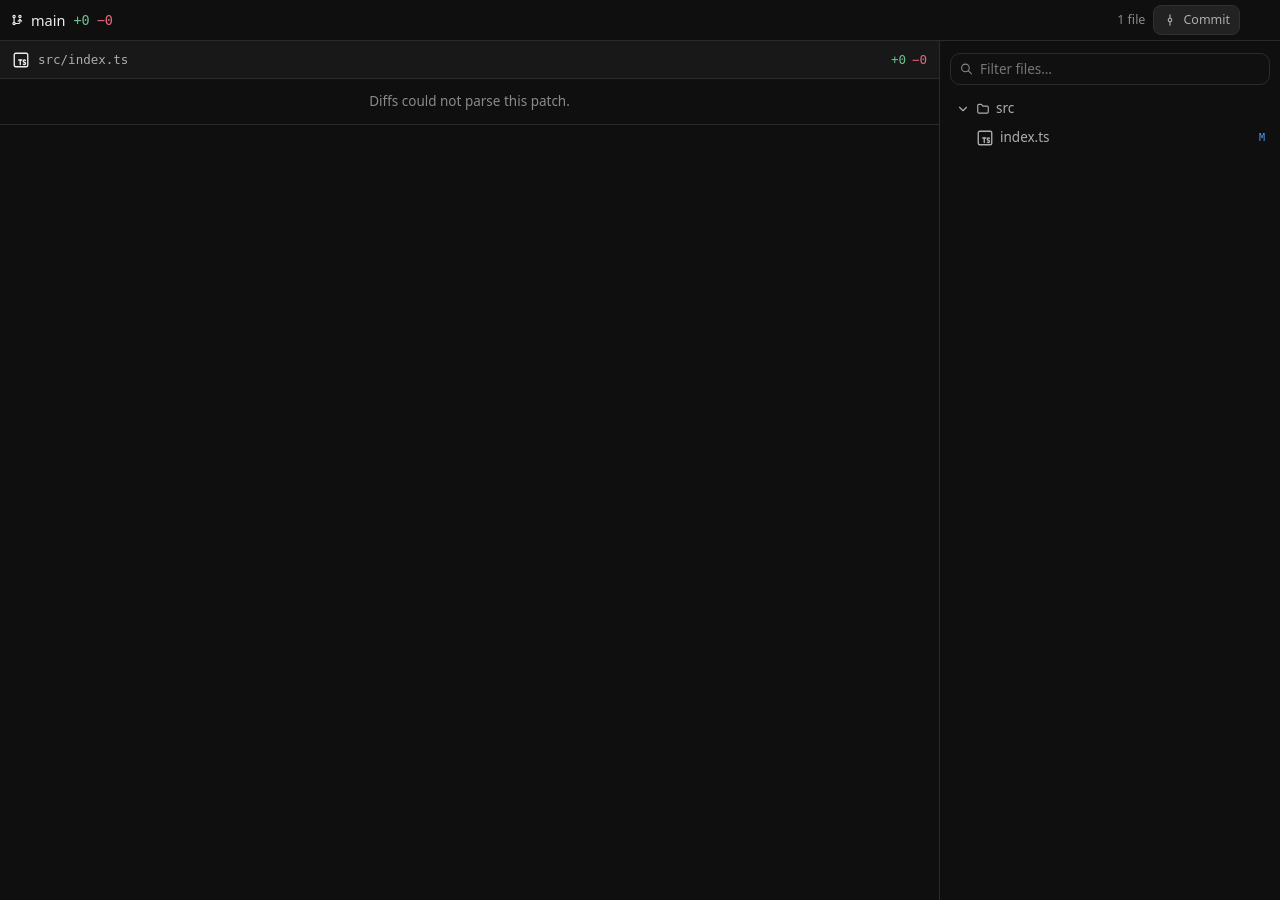
Test: WorkspaceReview › keeps a commit draft across an automatic refresh until the changes differ
Later steps or results of the test are not shown.
Click the button with aria-label "Commit changes" at coordinates (1197, 20), box left=1153, top=5, right=1240, bottom=35
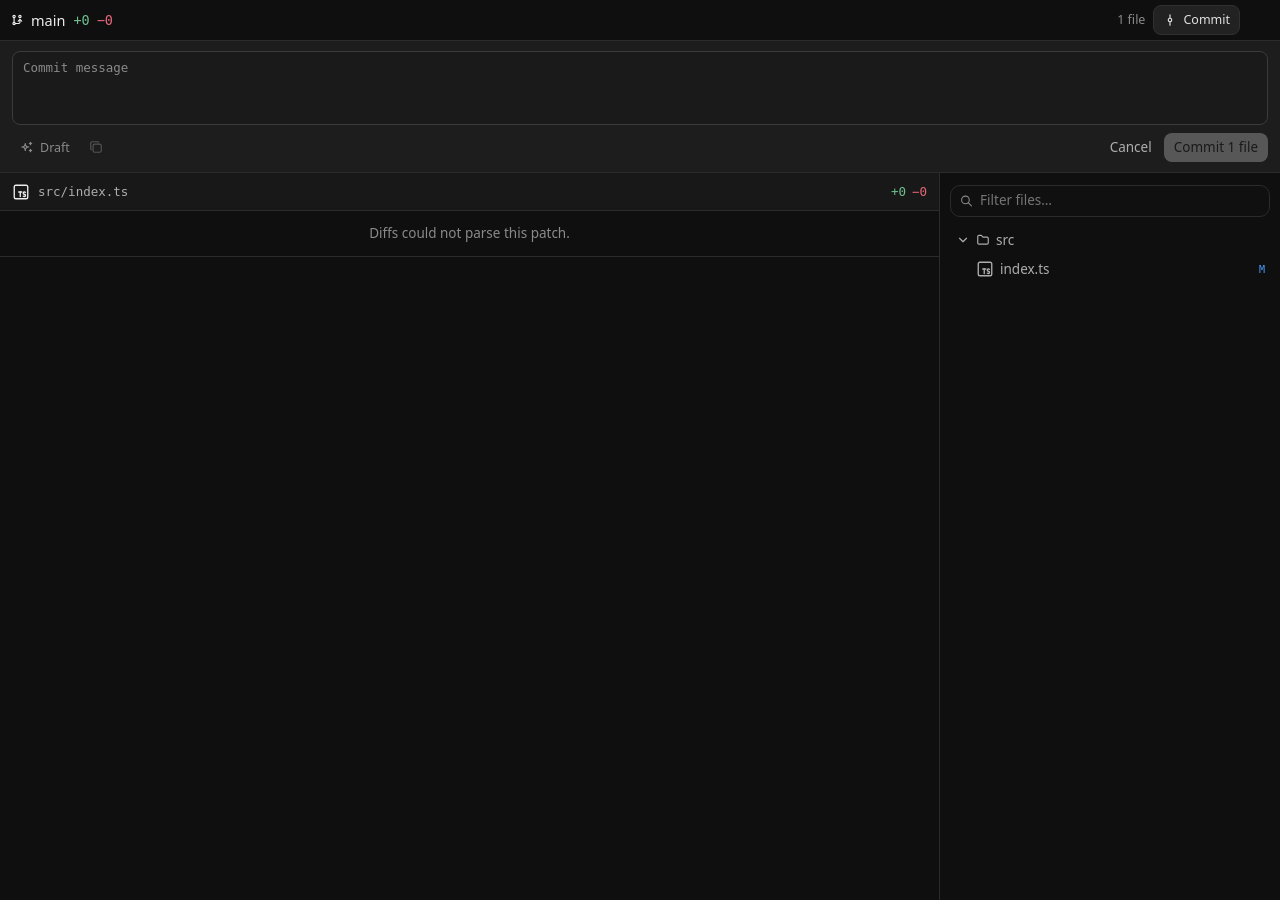
Click the button with aria-label "Draft commit message" at coordinates (45, 148), box left=12, top=134, right=78, bottom=162
Wait 200 ms
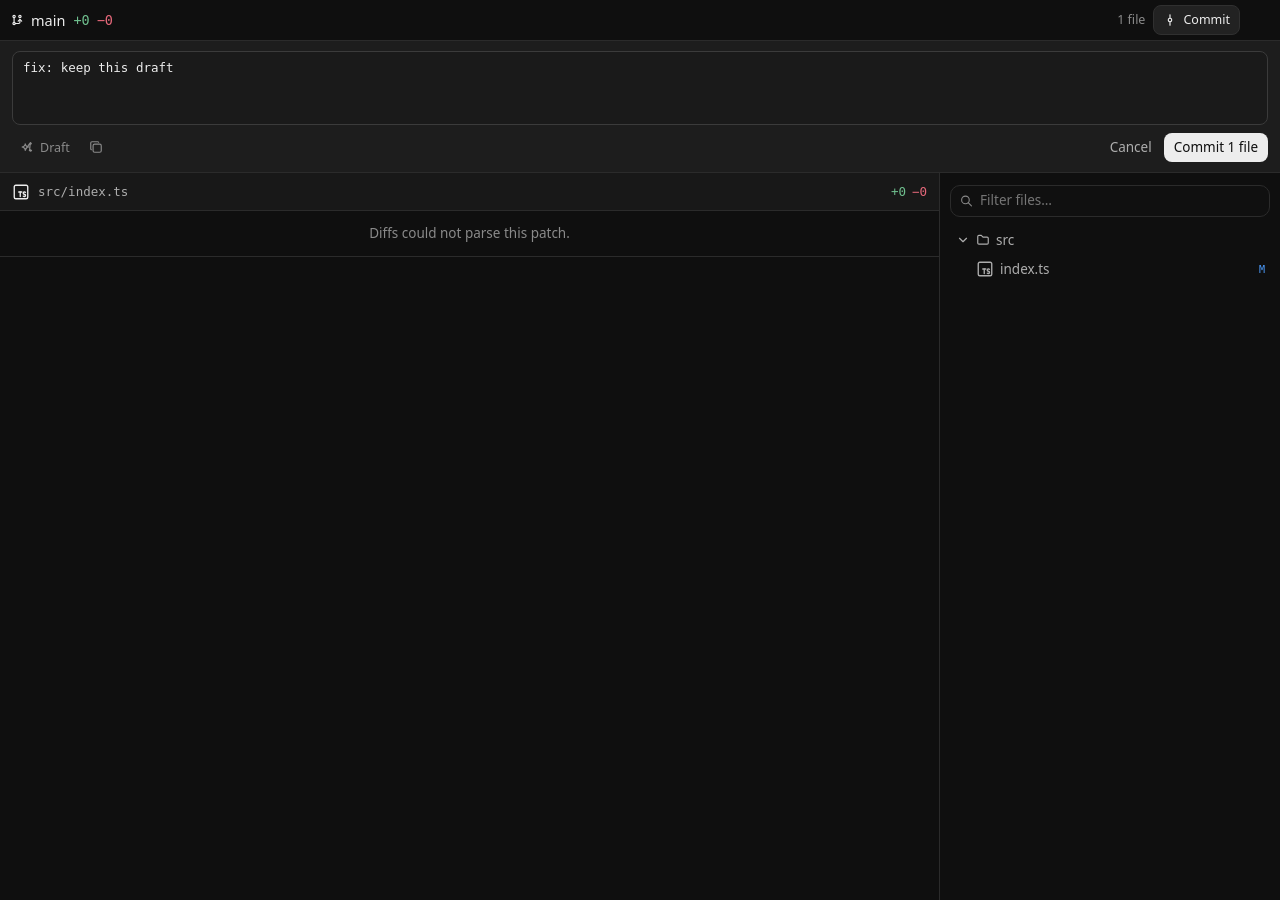
Result: the text box showing "fix: keep this draft" is shown at left=12, top=51, right=1268, bottom=125
